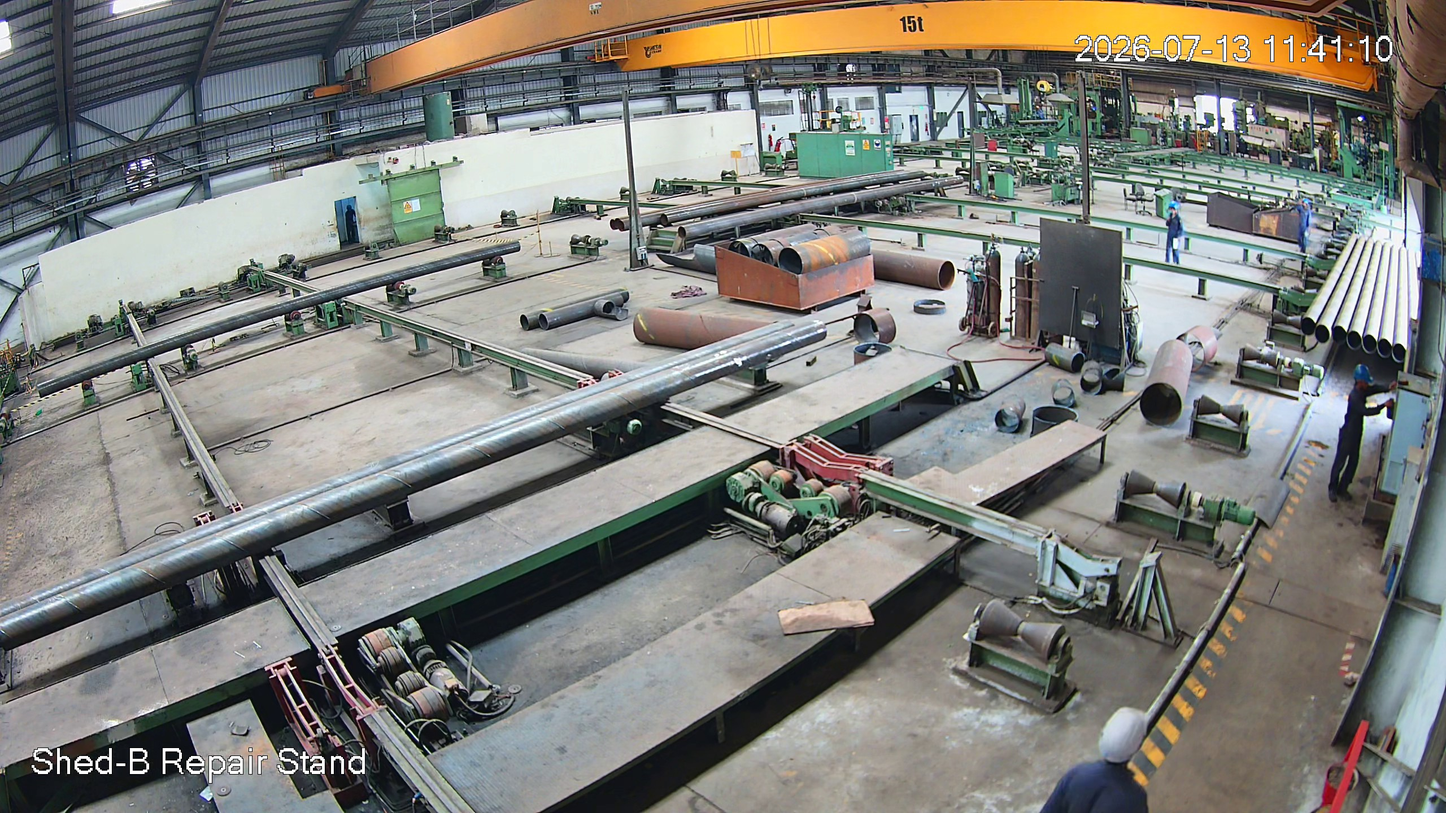Helmet: (1095, 699, 1151, 774), (1350, 361, 1380, 401)
Person: (1033, 705, 1172, 813), (1329, 367, 1380, 502)
